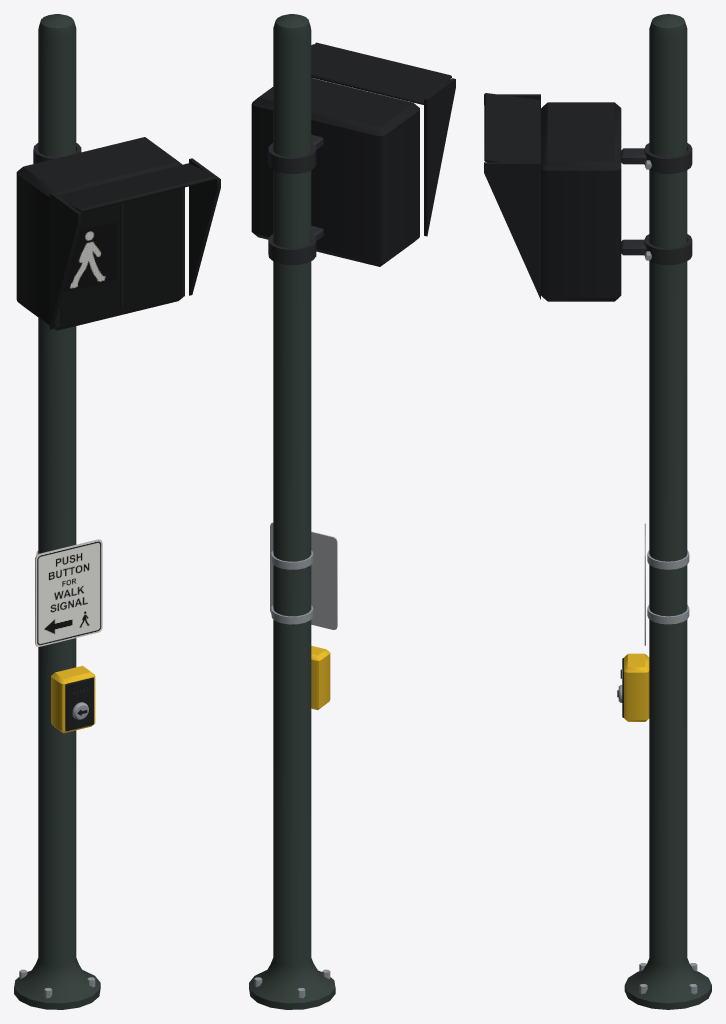
The model's file is PedPole.fbx.
3 views of the same model, side by side, from view 1: azimuth 30°, elevation 25°; view 2: azimuth 150°, elevation 25°; view 3: azimuth 270°, elevation 25° (orthographic).
Parts seen in each view (by area): view 1: PedPole_Mesh, PedHead; view 2: PedPole_Mesh, PedHead; view 3: PedPole_Mesh, PedHead.
Boxes of the visible parts, bbox=[...] form: PedPole_Mesh: bbox=[14, 14, 102, 1009]; PedHead: bbox=[16, 137, 220, 330]; PedPole_Mesh: bbox=[249, 14, 337, 1009]; PedHead: bbox=[251, 42, 455, 266]; PedPole_Mesh: bbox=[617, 14, 711, 1009]; PedHead: bbox=[484, 93, 692, 301].
Bounding box in the file's own units: 0.492 × 3.21 × 0.68.
